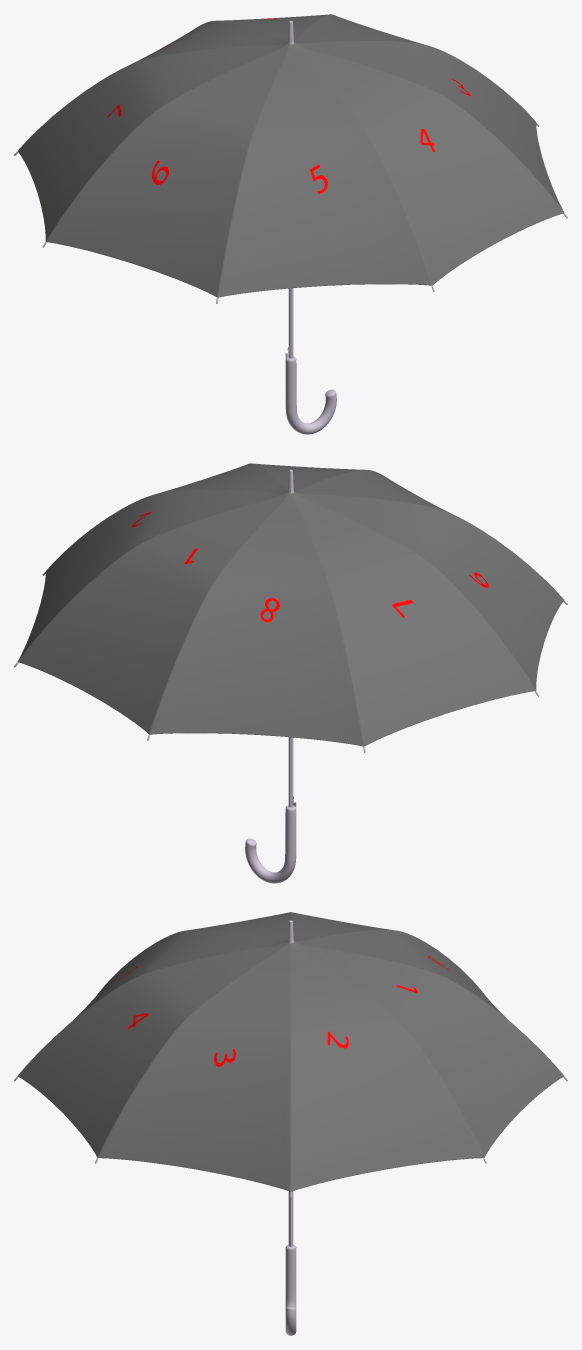
Rendered from straight_23in_8panel_standard.glb.
3 renders of one model, top to bottom at view 1: azimuth 30°, elevation 25°; view 2: azimuth 150°, elevation 25°; view 3: azimuth 270°, elevation 25°, orthographic. The views are drawn at different scales.
Parts seen in each view (by area): view 1: canopy_panel_05, canopy_panel_06, canopy_panel_04, canopy_panel_07, canopy_panel_03, canopy_panel_08, canopy_panel_02, handle, canopy_panel_01; view 2: canopy_panel_08, canopy_panel_07, canopy_panel_01, canopy_panel_06, canopy_panel_02, canopy_panel_05, canopy_panel_03, handle, canopy_panel_04; view 3: canopy_panel_03, canopy_panel_02, canopy_panel_01, canopy_panel_04, canopy_panel_08, canopy_panel_05, canopy_panel_06, canopy_panel_07, handle.
Boxes of the visible parts, x1,y1,x2,y2 form: canopy_panel_05: (217,44,432,297); canopy_panel_06: (46,44,289,297); canopy_panel_04: (293,43,564,285); canopy_panel_07: (17,43,287,241); canopy_panel_03: (294,40,563,211); canopy_panel_08: (130,20,287,64); canopy_panel_02: (294,14,426,45); handle: (285,356,336,434); canopy_panel_01: (216,14,329,41); canopy_panel_08: (149,493,364,746); canopy_panel_07: (292,493,535,746); canopy_panel_01: (17,492,288,734); canopy_panel_06: (294,492,564,690); canopy_panel_02: (18,489,287,660); canopy_panel_05: (294,470,453,514); canopy_panel_03: (155,463,287,494); handle: (245,805,296,883); canopy_panel_04: (253,463,365,490); canopy_panel_03: (97,943,290,1191); canopy_panel_02: (291,943,484,1191); canopy_panel_01: (293,942,564,1157); canopy_panel_04: (17,942,288,1157); canopy_panel_08: (294,929,516,1027); canopy_panel_05: (47,929,287,1043); canopy_panel_06: (188,912,290,941); canopy_panel_07: (291,912,393,941); handle: (285,1244,296,1335).
Size of the model in its own units: 1.05 by 0.8417 by 1.05.
2 materials, 1 textured.
